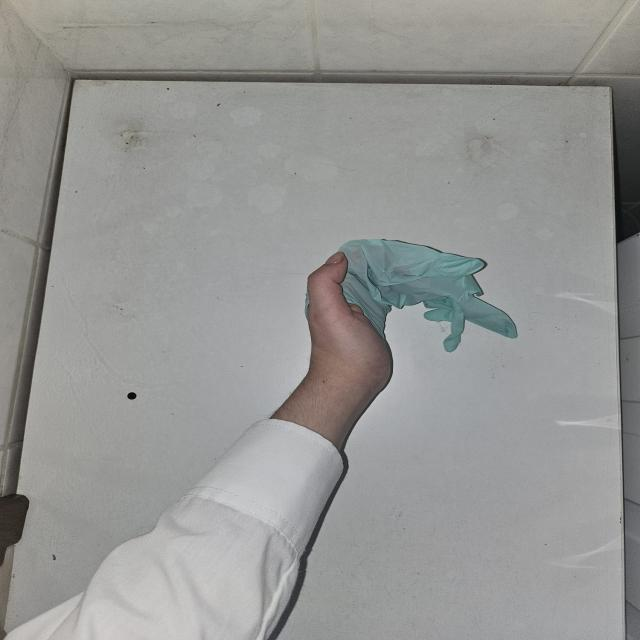glove_partial: (304, 238, 518, 395)
